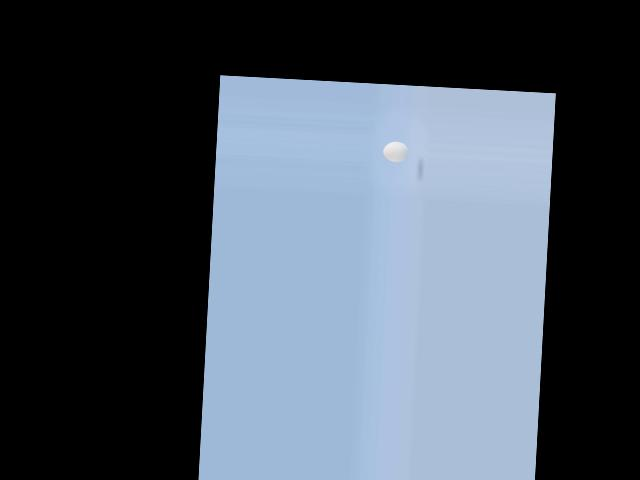egg: (382, 140, 409, 162)
